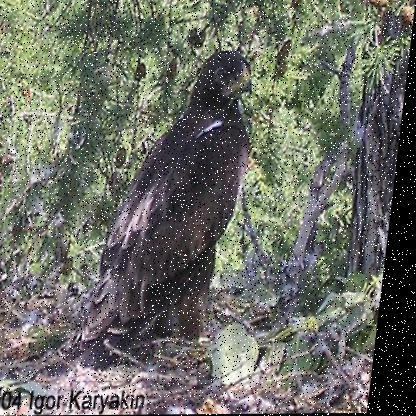Burung: (79, 50, 260, 358)
